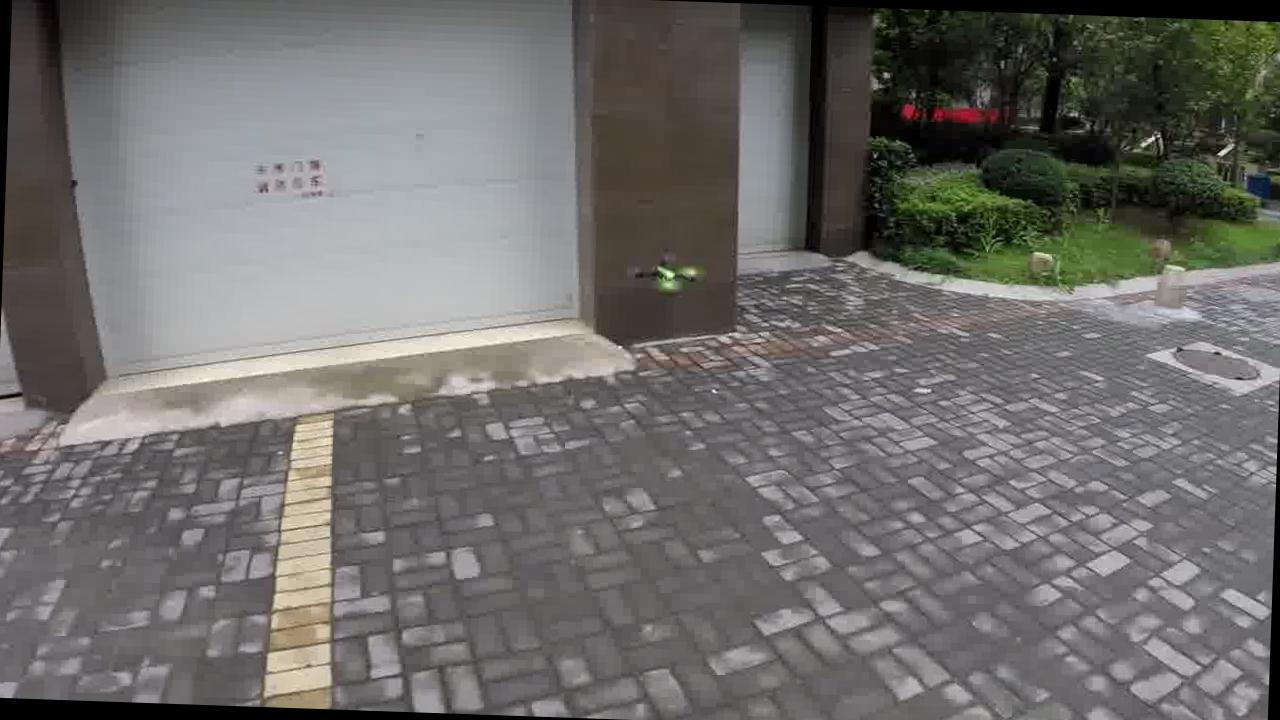drone: (609, 248, 715, 300)
